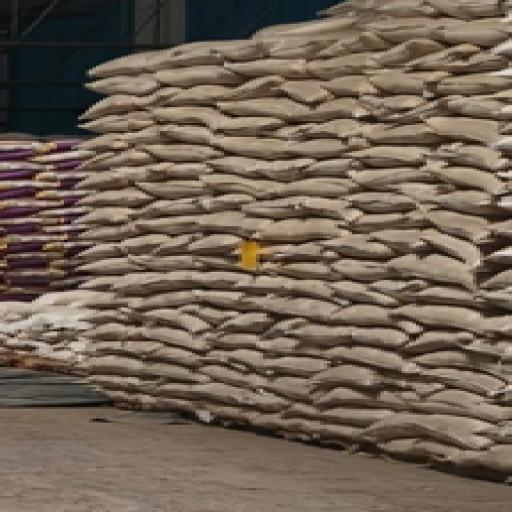other: (0, 369, 508, 510), (0, 0, 331, 131)
pile: (0, 0, 508, 474), (0, 137, 89, 300)
